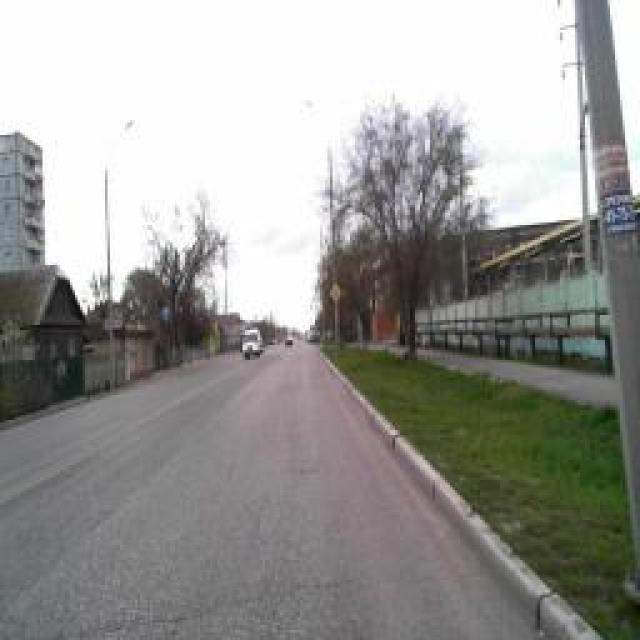sign: (330, 280, 342, 302)
